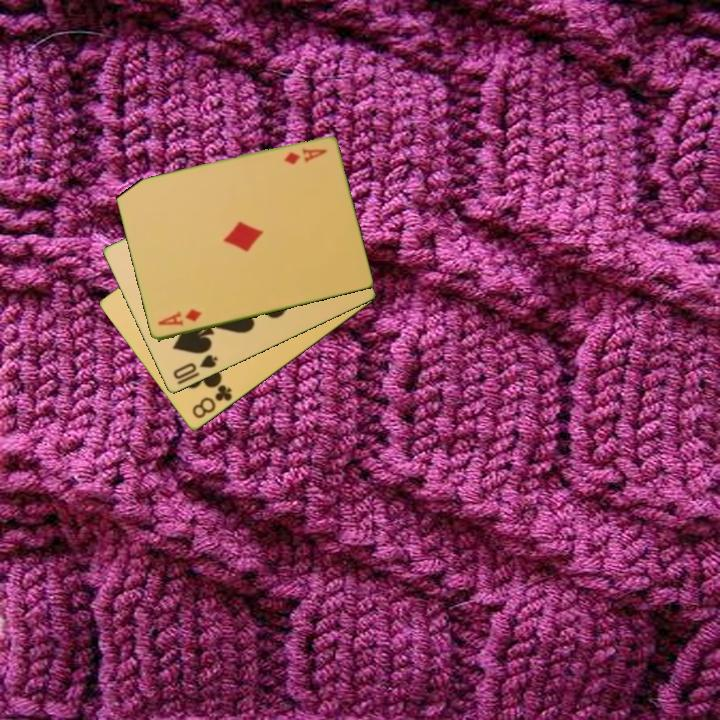10s: (169, 351, 221, 383)
8c: (188, 381, 235, 422)
Ad: (154, 306, 205, 329), (280, 145, 330, 168)
